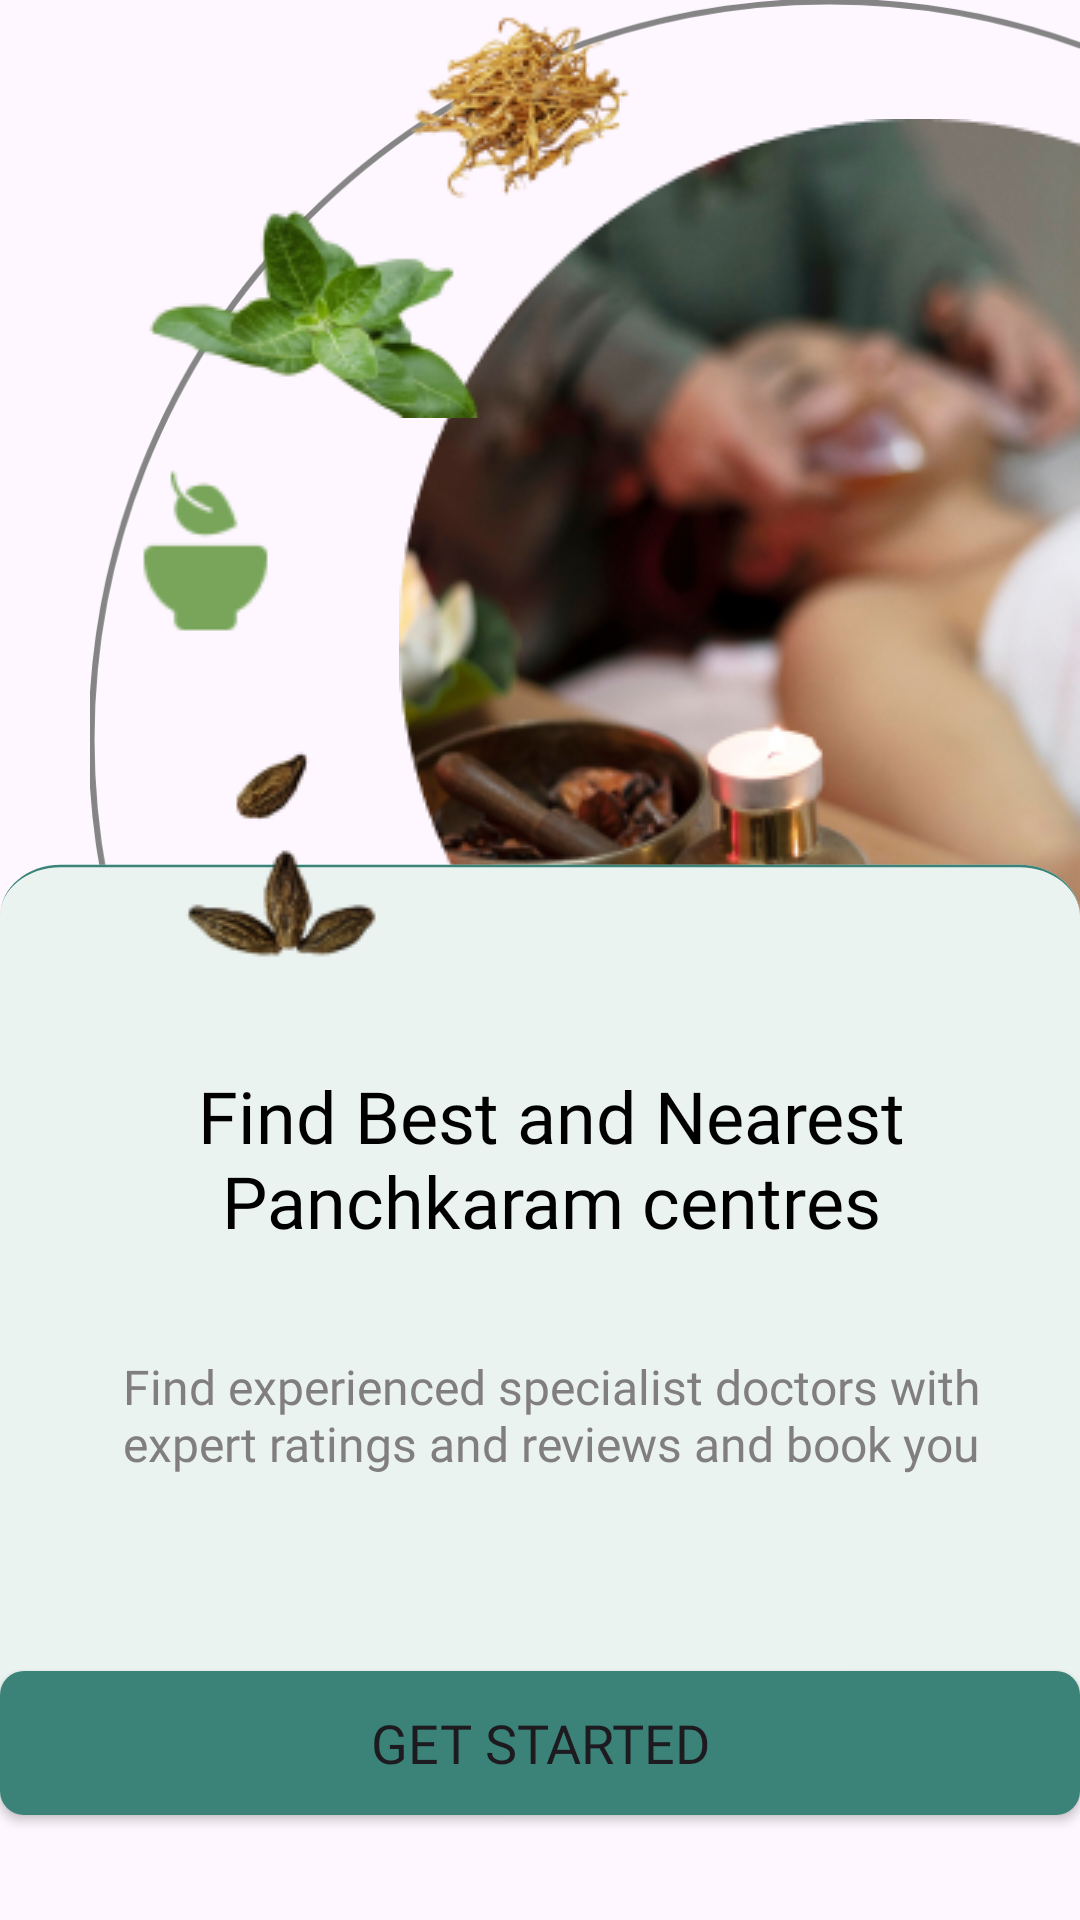

Icon click points for this 1080*1920 phone screenshot, format [x,y]:
leaf: [315,305]
vegan: [205,551]
